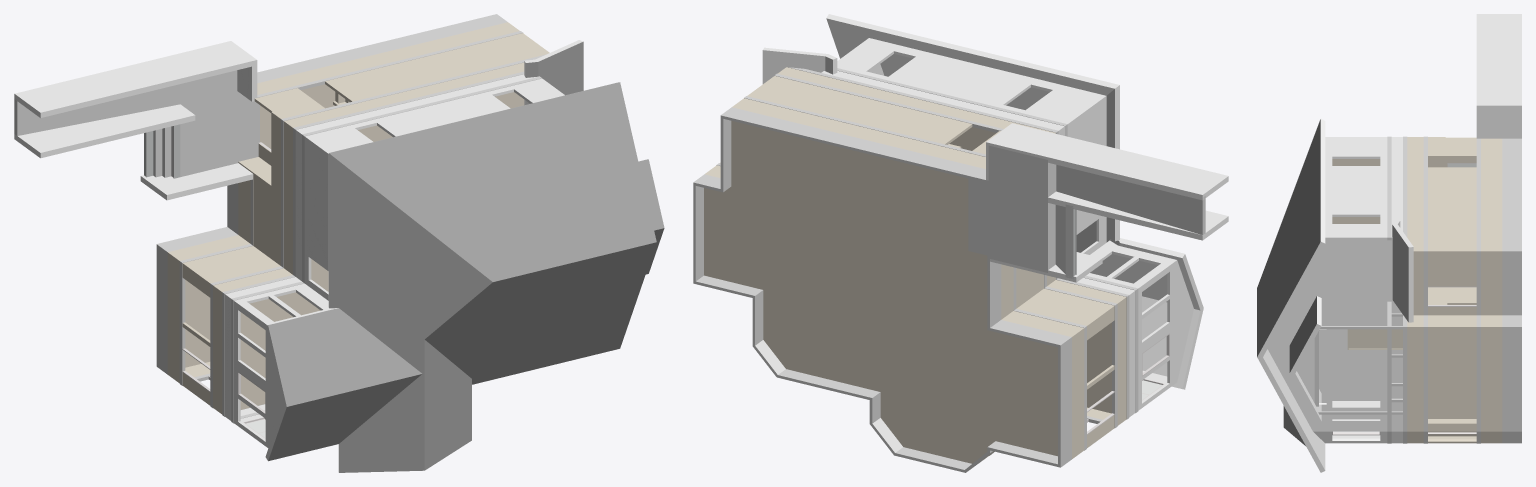
The model's file is asset.gltf.
3 views of the same model, side by side, from view 1: azimuth 30°, elevation 25°; view 2: azimuth 150°, elevation 25°; view 3: azimuth 270°, elevation 25° (orthographic). The views are drawn at different scales.
Parts seen in each view (by area): view 1: Brep (×15), Instance-Def-InstanceDefinition_91, Instance-Def-InstanceDefinition_113, Instance-Def-InstanceDefinition_115, Instance-Def-InstanceDefinition_93, Instance-Def-InstanceDefinition_92, Instance-Def-InstanceDefinition_110, Instance-Def-InstanceDefinition_82, Instance-Def-InstanceDefinition_99, Instance-Def-InstanceDefinition_116, Instance-Def-InstanceDefinition_112, Instance-Def-InstanceDefinition_122 (+15 smaller); view 2: Brep (×14), Instance-Def-InstanceDefinition_113, Instance-Def-InstanceDefinition_91, Instance-Def-InstanceDefinition_115, Instance-Def-InstanceDefinition_116, Instance-Def-InstanceDefinition_99, Instance-Def-InstanceDefinition_82, Instance-Def-InstanceDefinition_112, Instance-Def-InstanceDefinition_110, Instance-Def-InstanceDefinition_40, Instance-Def-InstanceDefinition_122, Instance-Def-InstanceDefinition_86 (+17 smaller); view 3: Brep (×13), Instance-Def-InstanceDefinition_91, Instance-Def-InstanceDefinition_49, Instance-Def-InstanceDefinition_113, Instance-Def-InstanceDefinition_115, Instance-Def-InstanceDefinition_152, Instance-Def-InstanceDefinition_112, Instance-Def-InstanceDefinition_122, Instance-Def-InstanceDefinition_84, Instance-Def-InstanceDefinition_47, Instance-Def-InstanceDefinition_141, Instance-Def-InstanceDefinition_160 (+23 smaller).
Boxes of the visible parts, bbox=[...] form: Brep (×15): bbox=[141, 62, 656, 472]; Instance-Def-InstanceDefinition_91: bbox=[328, 82, 656, 307]; Instance-Def-InstanceDefinition_113: bbox=[254, 23, 547, 130]; Instance-Def-InstanceDefinition_115: bbox=[14, 41, 257, 117]; Instance-Def-InstanceDefinition_93: bbox=[265, 325, 421, 461]; Instance-Def-InstanceDefinition_92: bbox=[338, 340, 471, 472]; Instance-Def-InstanceDefinition_110: bbox=[14, 104, 195, 158]; Instance-Def-InstanceDefinition_82: bbox=[167, 255, 222, 414]; Instance-Def-InstanceDefinition_99: bbox=[167, 235, 292, 294]; Instance-Def-InstanceDefinition_116: bbox=[14, 84, 180, 135]; Instance-Def-InstanceDefinition_112: bbox=[257, 14, 504, 83]; Instance-Def-InstanceDefinition_122: bbox=[535, 40, 583, 95]; Brep (×14): bbox=[704, 38, 1202, 463]; Instance-Def-InstanceDefinition_113: bbox=[734, 76, 1055, 168]; Instance-Def-InstanceDefinition_91: bbox=[826, 14, 1119, 241]; Instance-Def-InstanceDefinition_115: bbox=[986, 123, 1228, 199]; Instance-Def-InstanceDefinition_116: bbox=[1056, 165, 1205, 234]; Instance-Def-InstanceDefinition_99: bbox=[1001, 280, 1126, 339]; Instance-Def-InstanceDefinition_82: bbox=[1072, 300, 1126, 458]; Instance-Def-InstanceDefinition_112: bbox=[723, 108, 988, 183]; Instance-Def-InstanceDefinition_110: bbox=[1048, 191, 1228, 240]; Instance-Def-InstanceDefinition_40: bbox=[1058, 336, 1071, 467]; Instance-Def-InstanceDefinition_122: bbox=[762, 47, 827, 83]; Instance-Def-InstanceDefinition_86: bbox=[1129, 272, 1169, 416]; Brep (×13): bbox=[1263, 110, 1521, 469]; Instance-Def-InstanceDefinition_91: bbox=[1257, 118, 1325, 472]; Instance-Def-InstanceDefinition_49: bbox=[1407, 326, 1502, 412]; Instance-Def-InstanceDefinition_113: bbox=[1428, 138, 1502, 250]; Instance-Def-InstanceDefinition_115: bbox=[1476, 14, 1521, 110]; Instance-Def-InstanceDefinition_152: bbox=[1413, 250, 1502, 315]; Instance-Def-InstanceDefinition_112: bbox=[1502, 138, 1521, 250]; Instance-Def-InstanceDefinition_122: bbox=[1392, 223, 1413, 322]; Instance-Def-InstanceDefinition_84: bbox=[1289, 296, 1321, 422]; Instance-Def-InstanceDefinition_47: bbox=[1502, 326, 1521, 412]; Instance-Def-InstanceDefinition_141: bbox=[1502, 250, 1521, 315]; Instance-Def-InstanceDefinition_160: bbox=[1348, 329, 1402, 349].
Size of the model in its own units: 20006 by 12710 by 10236.
